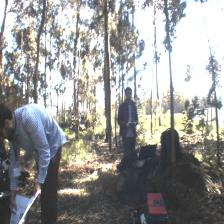trunktrack_idkeyframe: (168, 64, 176, 165), (104, 77, 113, 134)
